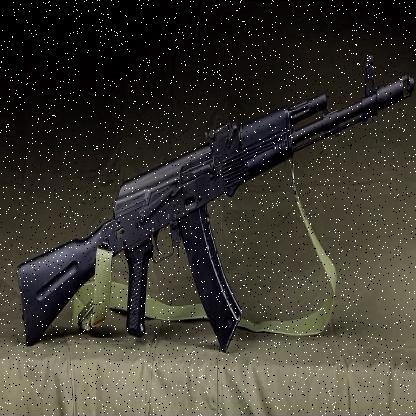rifle: (16, 61, 395, 349)
